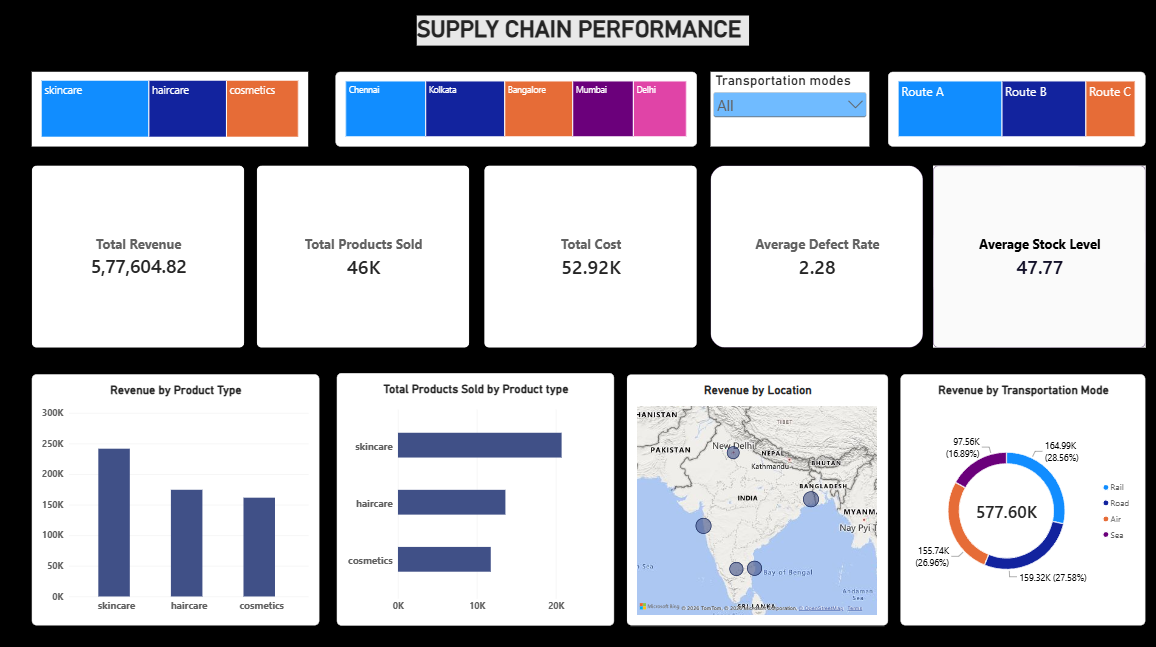

What the dashboard file says about the page in this screenshot:
{"tool":"powerbi","page":{"name":"Executive Overview","canvas":[1920,1080],"ordinal":0},"visuals":[{"type":"shape","title":"SUPPLY CHAIN PERFORMANCE DASHBOARD","box":[601,28.8,780.1,49.4],"z":0},{"type":"cardVisual","fields":{"Data":["supply_chain_data.Total Revenue"]},"box":[55.6,275.8,350,300],"z":1000},{"type":"cardVisual","fields":{"Data":["supply_chain_data.Total Products Sold"]},"box":[426.1,275.8,350,300],"z":2000},{"type":"cardVisual","fields":{"Data":["supply_chain_data.Total Cost"]},"box":[800.7,275.8,350,300],"z":3000},{"type":"cardVisual","fields":{"Data":["supply_chain_data.Average Defect Rate"]},"box":[1173.2,275.8,350,300.5],"z":4000},{"type":"cardVisual","fields":{"Data":["supply_chain_data.Average Stock Level"]},"box":[1539.6,275.8,350,300],"z":5000},{"type":"clusteredColumnChart","title":"Revenue by Product Type","fields":{"Category":["supply_chain_data.Product type"],"Y":["supply_chain_data.Total Revenue"]},"box":[55.6,619.6,473.4,413.7],"z":6000},{"type":"clusteredBarChart","fields":{"Category":["supply_chain_data.Product type"],"Y":["supply_chain_data.Total Products Sold"]},"box":[557.8,617.5,456.9,415.8],"z":7000},{"type":"map","title":"Revenue by Location","fields":{"Category":["supply_chain_data.Location"],"Size":["supply_chain_data.Total Revenue"]},"box":[1035.3,619.6,430.2,413.7],"z":8000},{"type":"donutChart","title":"Revenue by Transportation Mode","fields":{"Category":["supply_chain_data.Transportation modes"],"Y":["supply_chain_data.Total Revenue"]},"box":[1486.1,619.6,403.4,413.7],"z":9000},{"type":"treemap","fields":{"Group":["supply_chain_data.Product type"],"Values":["supply_chain_data.Total Revenue"]},"box":[55.6,121.4,454.9,123.5],"z":9001},{"type":"treemap","fields":{"Group":["supply_chain_data.Location"],"Values":["supply_chain_data.Total Cost"]},"box":[555.7,121.4,594.9,123.5],"z":9002},{"type":"slicer","fields":{"Values":["supply_chain_data.Transportation modes"]},"box":[1173.2,121.4,261.4,123.5],"z":9003},{"type":"treemap","fields":{"Group":["supply_chain_data.Routes"],"Values":["supply_chain_data.Total Revenue"]},"box":[1465.5,121.4,424,123.5],"z":9004}]}

Visuals, with their boxes in screenshot pixels (x1, y1, x2, y2), scaled from the page's 1920x1080 canvas onto the 1156x647 screenshot:
"SUPPLY CHAIN PERFORMANCE DASHBOARD" shape: [362,17,832,47]
cardVisual - supply_chain_data.Total Revenue: [33,165,244,345]
cardVisual - supply_chain_data.Total Products Sold: [257,165,467,345]
cardVisual - supply_chain_data.Total Cost: [482,165,693,345]
cardVisual - supply_chain_data.Average Defect Rate: [706,165,917,345]
cardVisual - supply_chain_data.Average Stock Level: [927,165,1138,345]
"Revenue by Product Type" clusteredColumnChart: [33,371,319,619]
clusteredBarChart - supply_chain_data.Product type x supply_chain_data.Total Products Sold: [336,370,611,619]
"Revenue by Location" map: [623,371,882,619]
"Revenue by Transportation Mode" donutChart: [895,371,1138,619]
treemap - supply_chain_data.Product type x supply_chain_data.Total Revenue: [33,73,307,147]
treemap - supply_chain_data.Location x supply_chain_data.Total Cost: [335,73,693,147]
slicer - supply_chain_data.Transportation modes: [706,73,864,147]
treemap - supply_chain_data.Routes x supply_chain_data.Total Revenue: [882,73,1138,147]
